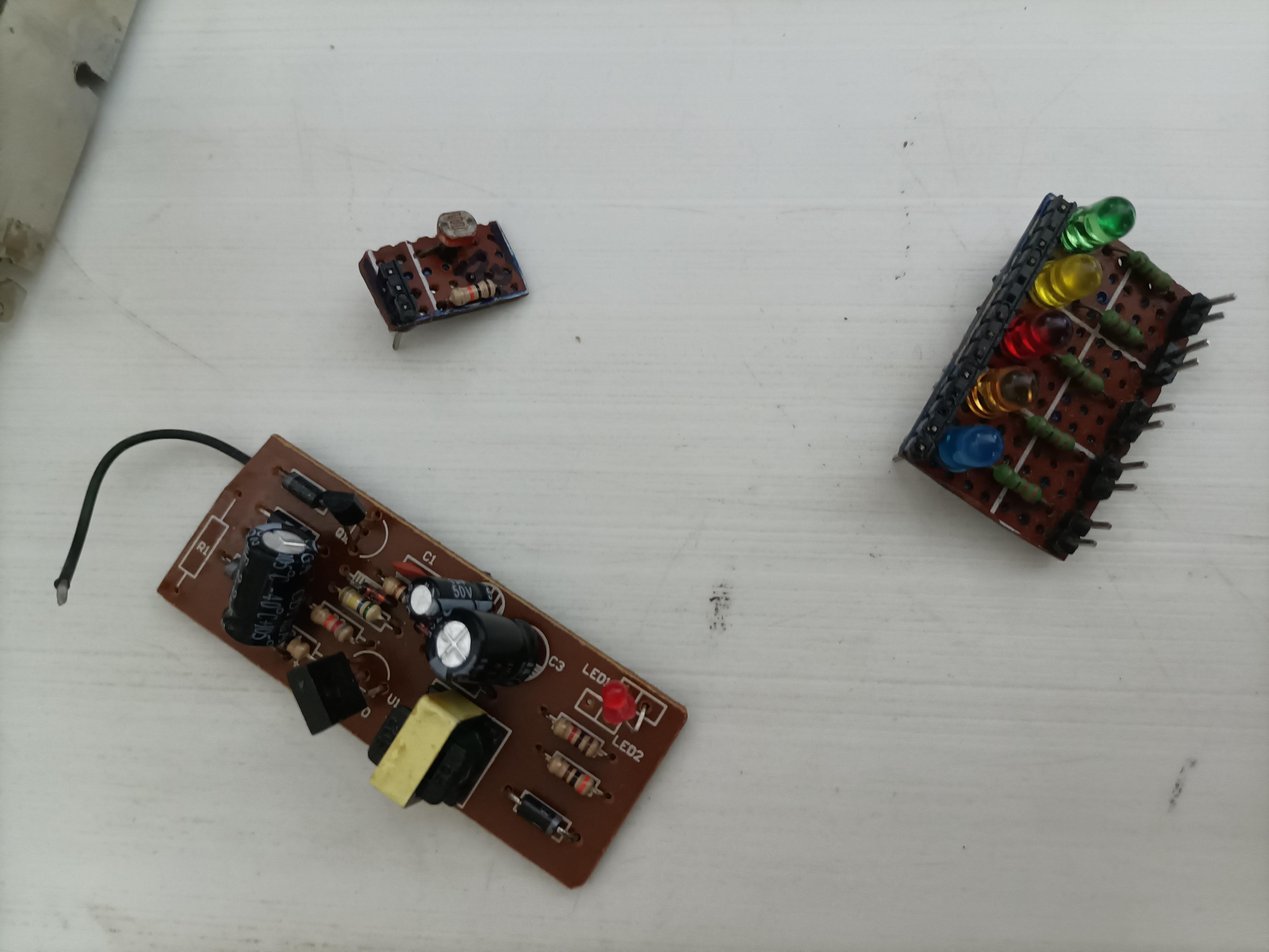LED: (1063, 194, 1137, 254), (998, 309, 1079, 362), (1033, 253, 1103, 310), (935, 414, 1003, 469), (968, 364, 1039, 414), (597, 682, 663, 734), (443, 290, 507, 314), (291, 628, 323, 656)
Resistencia: (345, 579, 404, 607), (316, 597, 375, 625), (554, 746, 612, 774), (561, 712, 619, 740), (1132, 244, 1194, 267), (1034, 409, 1089, 433), (1108, 304, 1163, 327), (1064, 349, 1118, 372), (1001, 460, 1055, 483), (390, 565, 429, 593)
